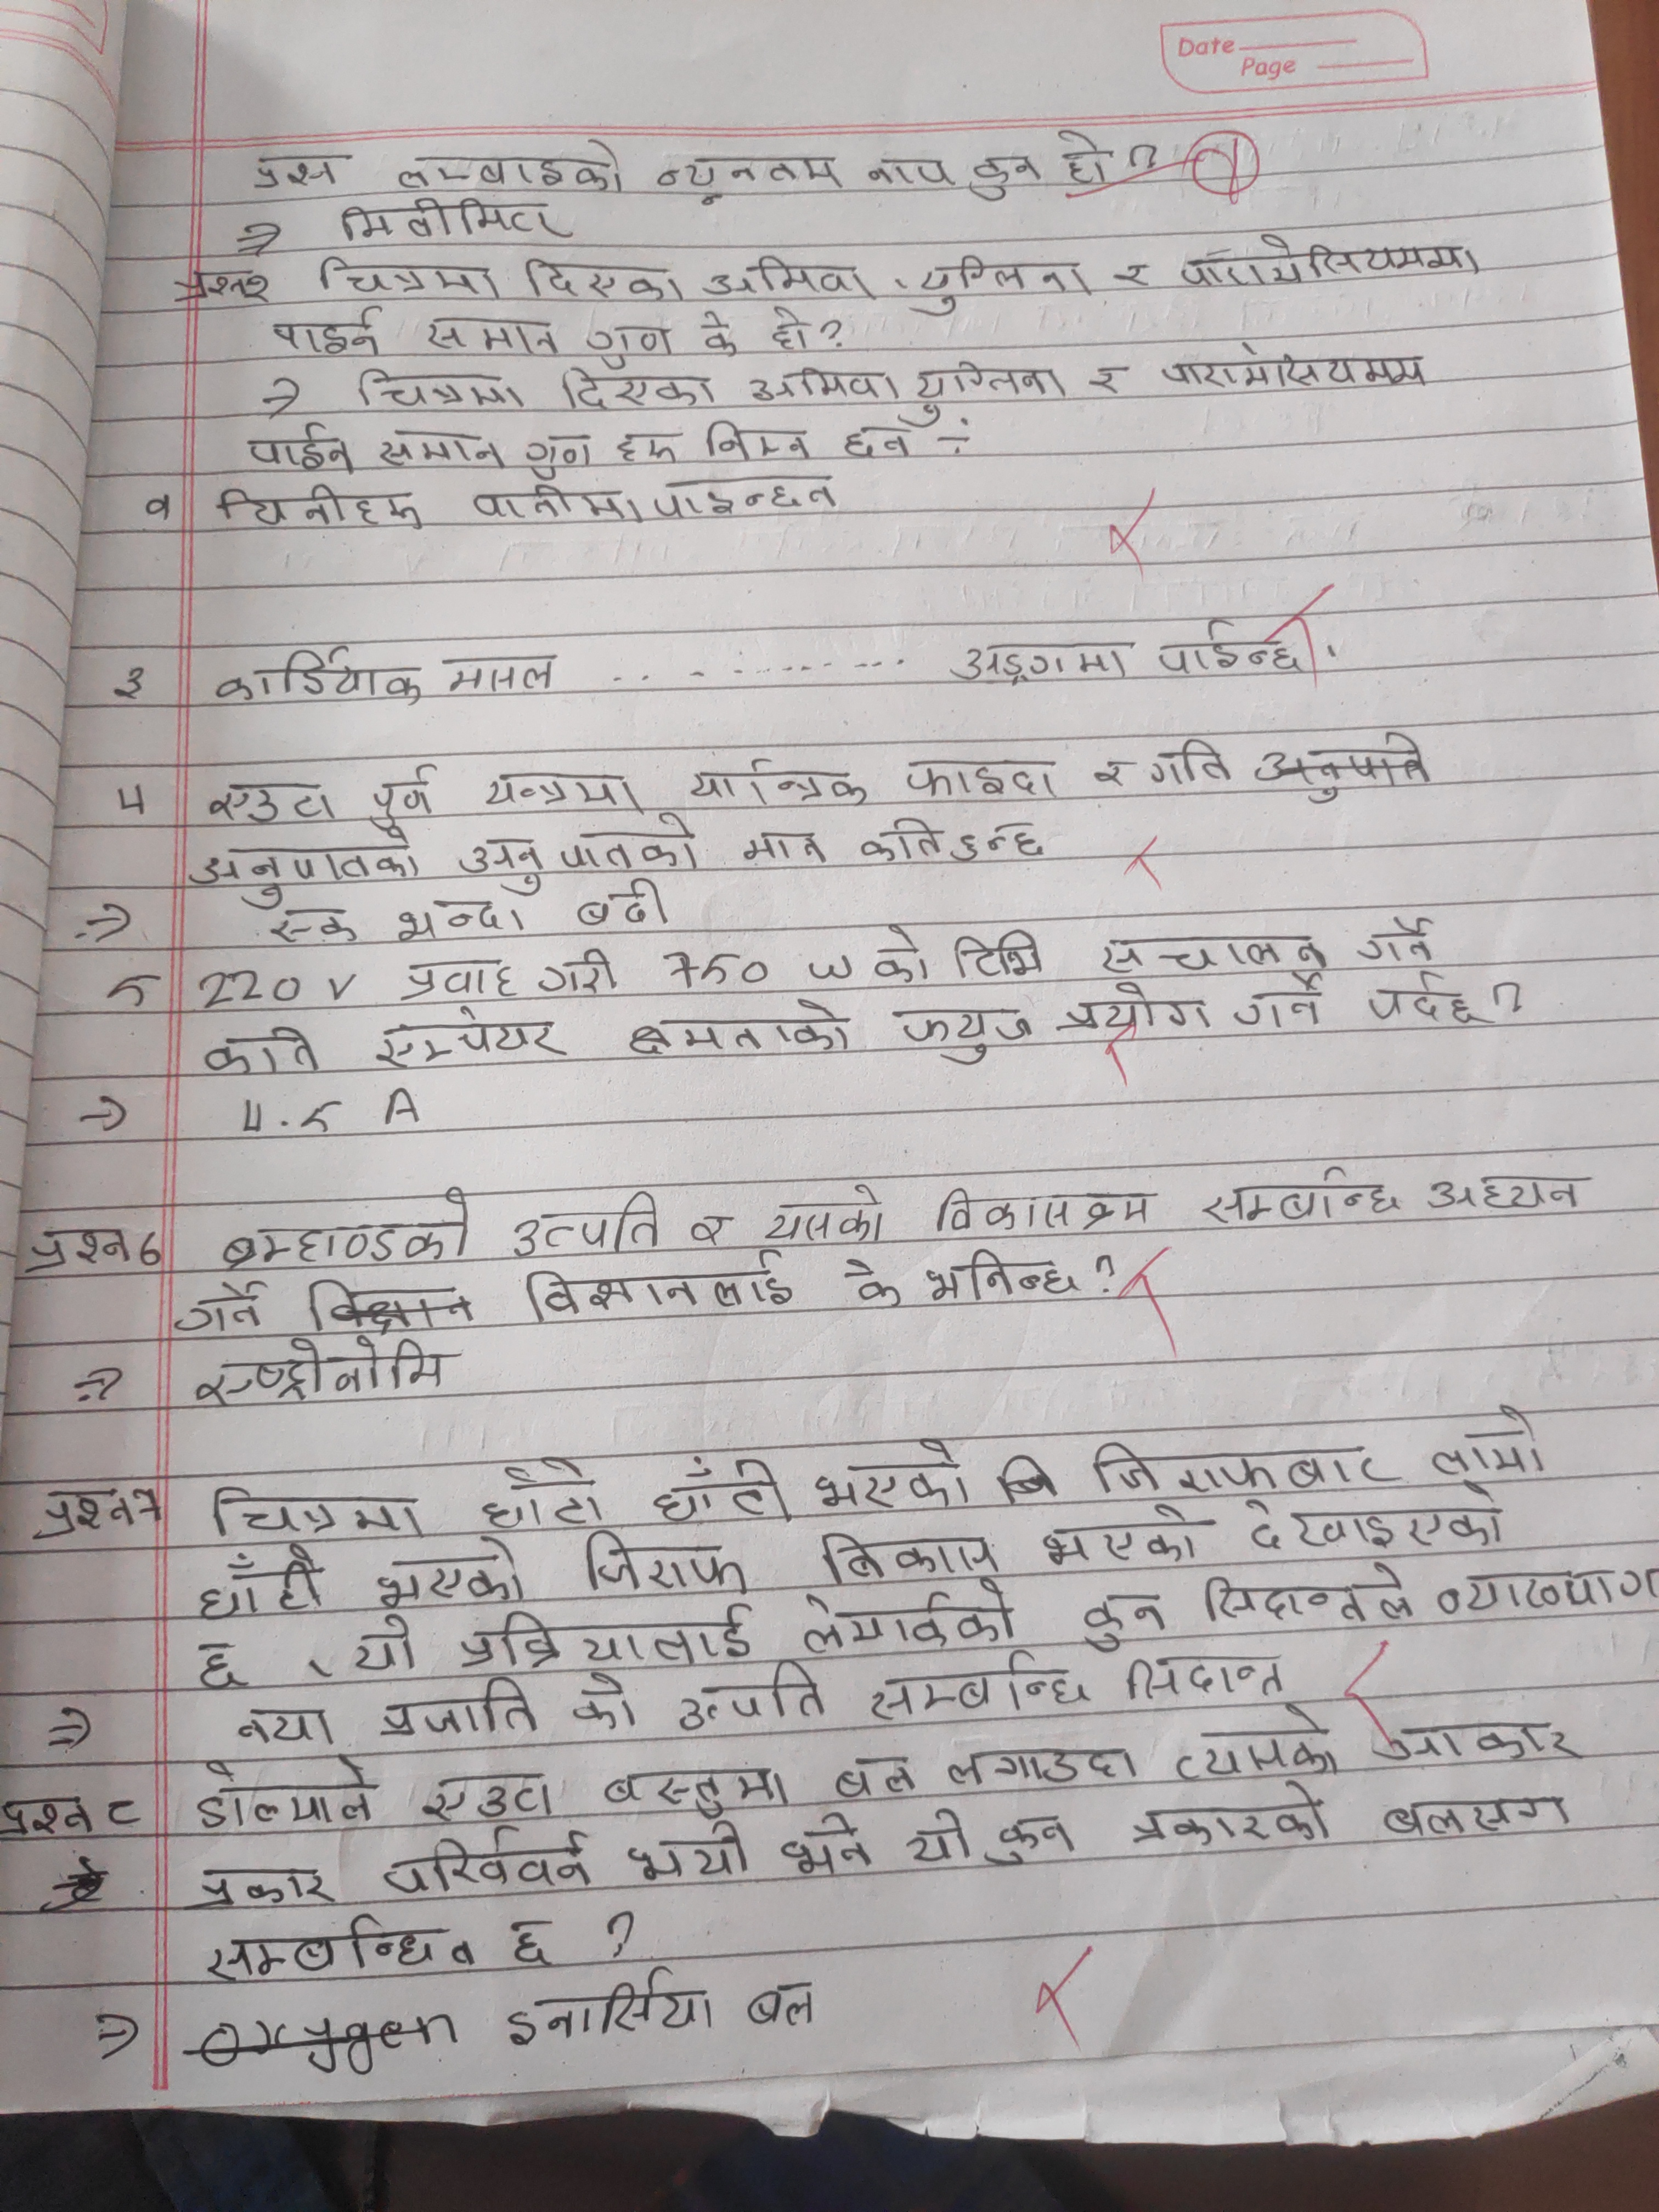text: (1086, 1430, 1405, 1498), (1225, 1486, 1514, 1559), (220, 1184, 477, 1266), (453, 1602, 758, 1670), (181, 1336, 457, 1409), (1175, 228, 1483, 293), (521, 1251, 798, 1320), (453, 817, 706, 890), (190, 831, 429, 907), (204, 1918, 479, 1984), (500, 1970, 716, 2048), (1155, 341, 1432, 401), (209, 643, 423, 718), (793, 1581, 1021, 1651), (202, 1477, 430, 1545), (868, 1655, 1093, 1723), (193, 1756, 378, 1834), (375, 1832, 596, 1897), (1124, 1784, 1333, 1850), (812, 1435, 981, 1517), (1253, 733, 1438, 806), (396, 138, 627, 195), (627, 1000, 850, 1059), (207, 477, 427, 536), (1199, 1167, 1410, 1228), (1431, 1562, 1659, 1618), (910, 251, 1096, 319), (1202, 1571, 1413, 1630), (369, 1005, 573, 1066), (336, 193, 572, 246), (814, 1521, 1004, 1585), (1175, 1714, 1345, 1785), (1084, 925, 1331, 974), (577, 1527, 746, 1597), (934, 1183, 1157, 1235), (373, 1534, 528, 1609), (601, 1761, 795, 1820), (373, 1677, 540, 1745), (910, 352, 1065, 425), (660, 143, 850, 202), (676, 1665, 828, 1738), (1148, 615, 1304, 686), (924, 1242, 1089, 1308), (1037, 1505, 1204, 1569), (1373, 1721, 1588, 1770), (1373, 1789, 1579, 1839), (188, 1543, 326, 1618), (509, 1193, 667, 1258), (647, 1458, 791, 1527), (1432, 1402, 1556, 1480), (647, 472, 849, 519), (477, 1458, 606, 1531), (1061, 982, 1220, 1042), (697, 251, 877, 303), (307, 254, 498, 303), (945, 637, 1140, 685), (1117, 1649, 1291, 1702), (687, 754, 866, 805), (941, 1745, 1140, 1791), (465, 482, 648, 531), (904, 754, 1063, 810), (626, 1820, 762, 1885), (558, 361, 720, 415), (350, 364, 528, 411), (483, 770, 653, 819), (519, 254, 688, 303), (896, 1007, 1037, 1064), (765, 1184, 890, 1245), (746, 359, 901, 408), (420, 1768, 558, 1822), (1425, 1169, 1588, 1214), (186, 1860, 336, 1909), (1361, 974, 1488, 1029), (204, 779, 338, 831), (202, 1019, 322, 1076), (420, 310, 558, 359), (240, 421, 357, 479), (1234, 970, 1333, 1036), (390, 897, 525, 946), (565, 878, 680, 934), (775, 1811, 871, 1878), (983, 1808, 1080, 1872), (373, 427, 505, 474), (394, 953, 516, 1003), (272, 307, 390, 357), (28, 1486, 134, 1541), (439, 648, 559, 697), (1077, 1588, 1166, 1653), (701, 418, 816, 467), (946, 925, 1044, 982), (174, 1278, 272, 1336), (946, 817, 1054, 867), (345, 1615, 425, 1681), (579, 315, 676, 369), (368, 761, 446, 827), (234, 1703, 342, 1750), (570, 1672, 647, 1738), (854, 817, 950, 869), (1143, 737, 1234, 791), (24, 1228, 132, 1273), (830, 1747, 922, 1799), (537, 946, 627, 998), (3, 1791, 96, 1841), (744, 824, 830, 876), (1356, 911, 1441, 963), (742, 1975, 817, 2034), (873, 918, 934, 989), (247, 152, 350, 192), (908, 1806, 971, 1871), (969, 153, 1047, 204), (272, 904, 359, 949), (838, 1256, 906, 1313), (171, 266, 267, 307), (861, 152, 951, 193), (509, 1911, 566, 1975), (519, 434, 598, 481), (190, 1634, 251, 1691), (1058, 127, 1110, 192), (608, 421, 680, 469), (840, 420, 920, 462), (763, 305, 821, 357), (697, 303, 741, 362), (106, 660, 155, 711), (687, 1202, 735, 1251), (1084, 357, 1131, 401), (134, 493, 181, 531), (1082, 758, 1136, 789), (1114, 254, 1150, 293)
